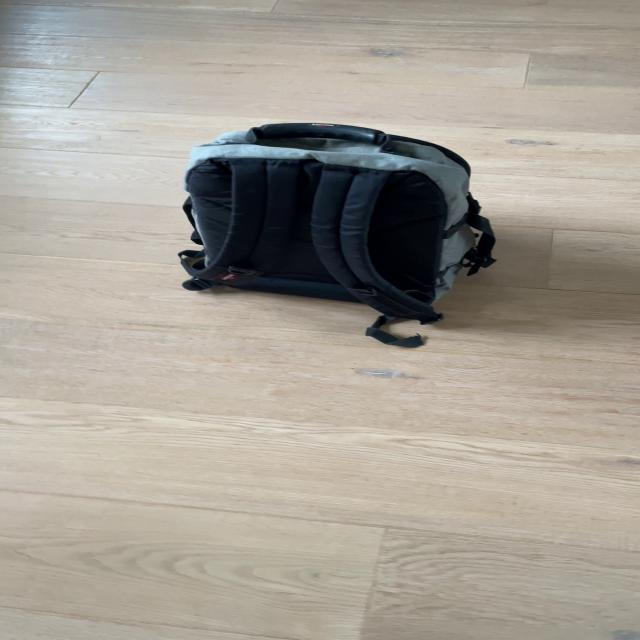backpack: (163, 112, 506, 324)
